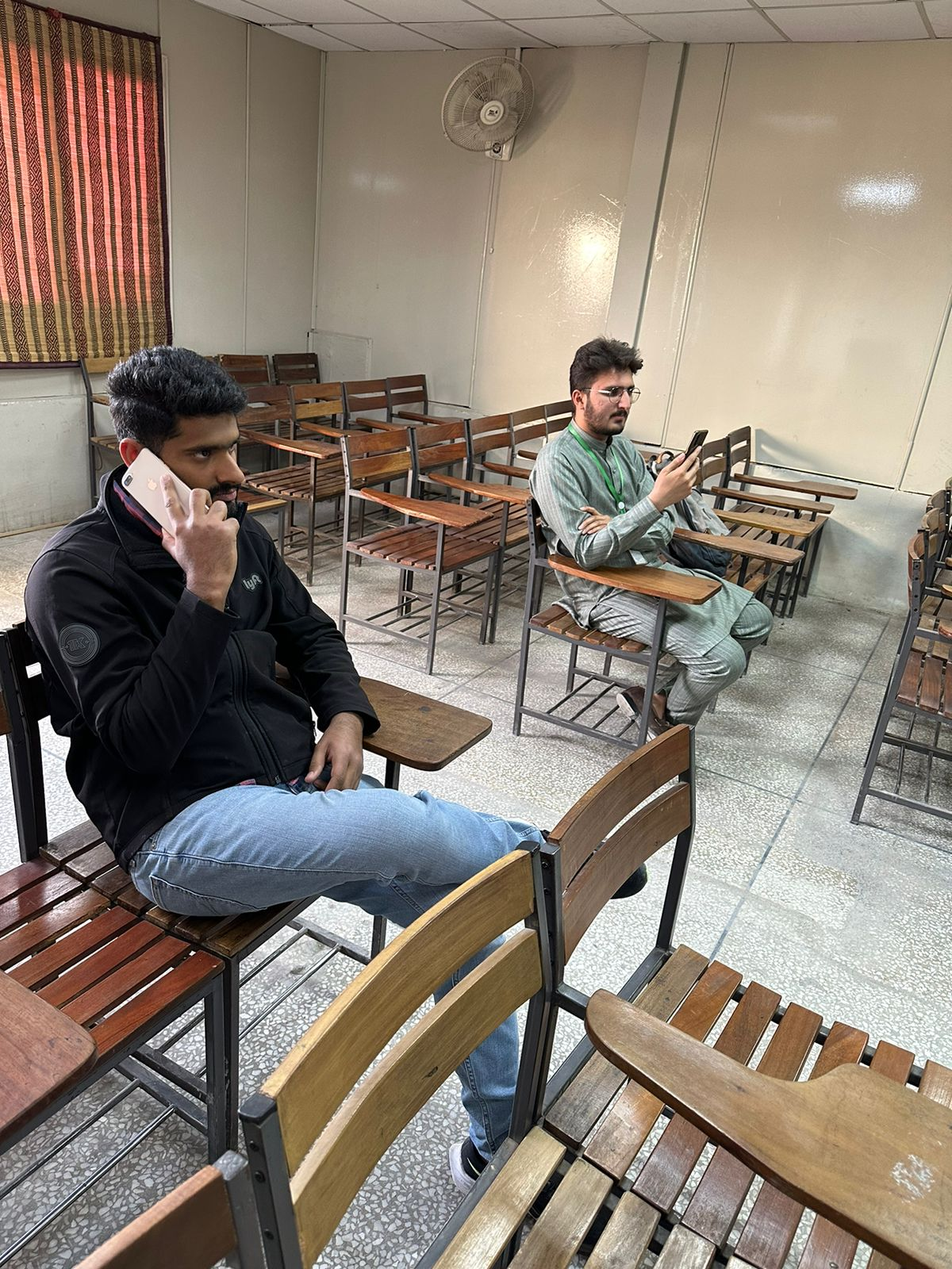phone: (119, 448, 241, 582), (665, 428, 709, 494)
